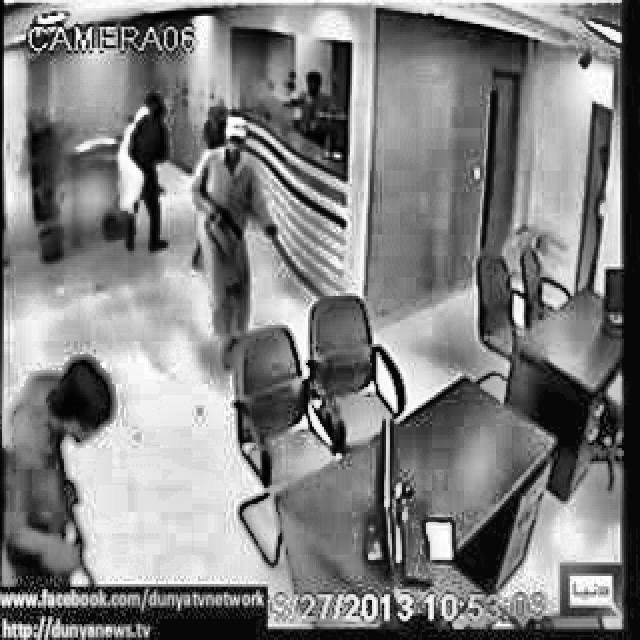robbery: (186, 111, 284, 370)
